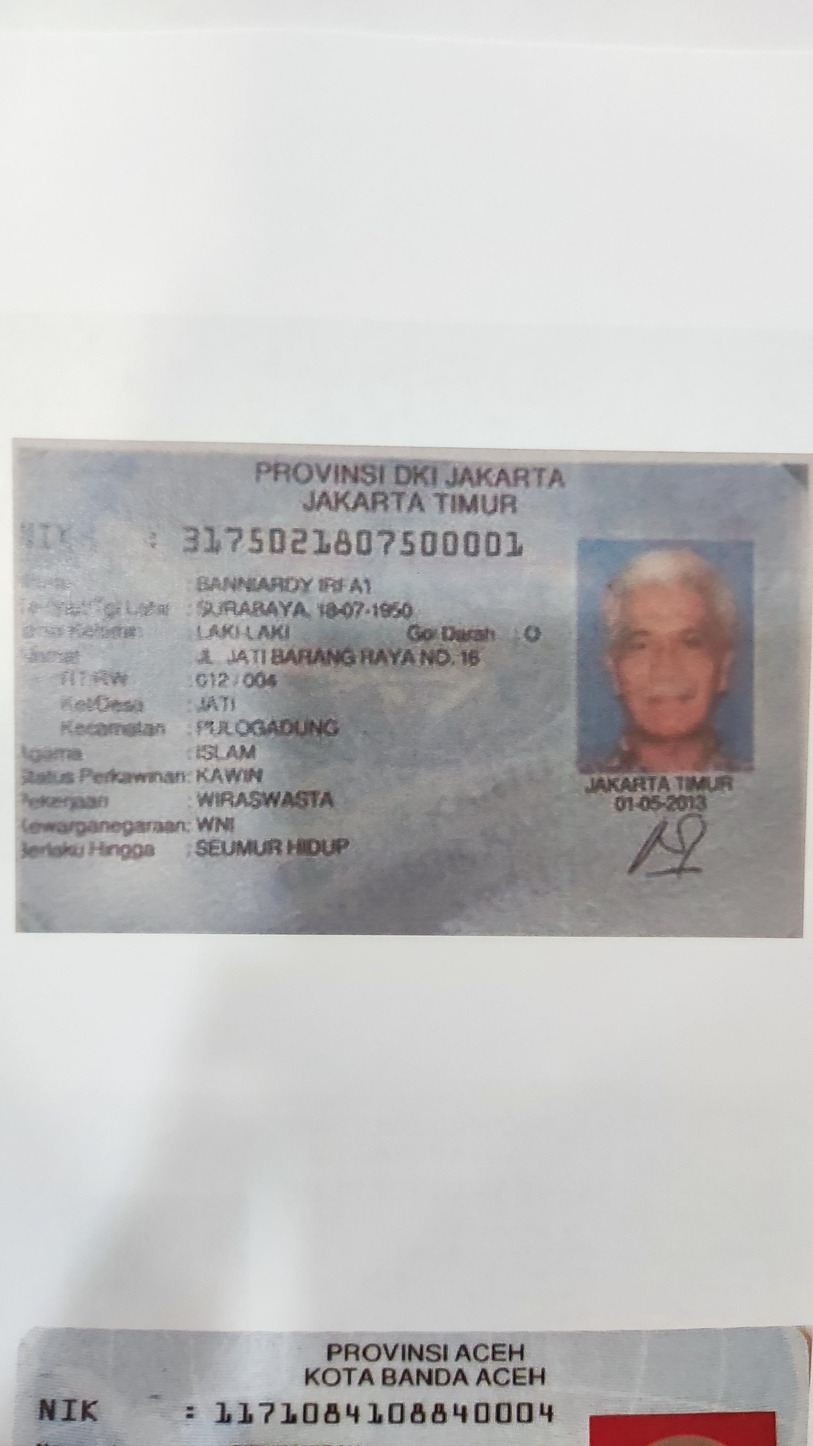ID-card: (16, 437, 801, 937)
